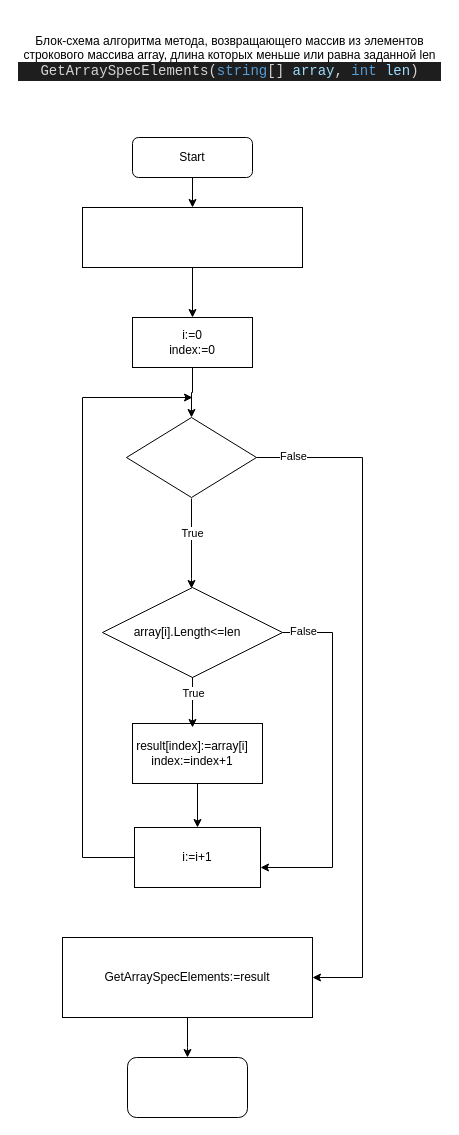
Image size: 459x1135. Some labels were removed from this diagram. The box of each missing label's shape, as (x1, y1, x2, y2) in pixels:
i<=array.Length-1: (126, 416, 256, 498)
n:=GetNumberSpecElements(array, len) result = string[0..n]: (82, 206, 302, 268)
Еnd: (126, 1056, 248, 1118)
